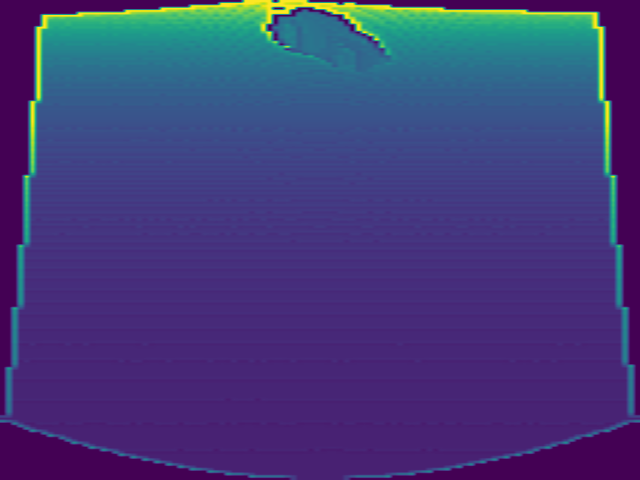car_0027: (266, 6, 394, 73)
